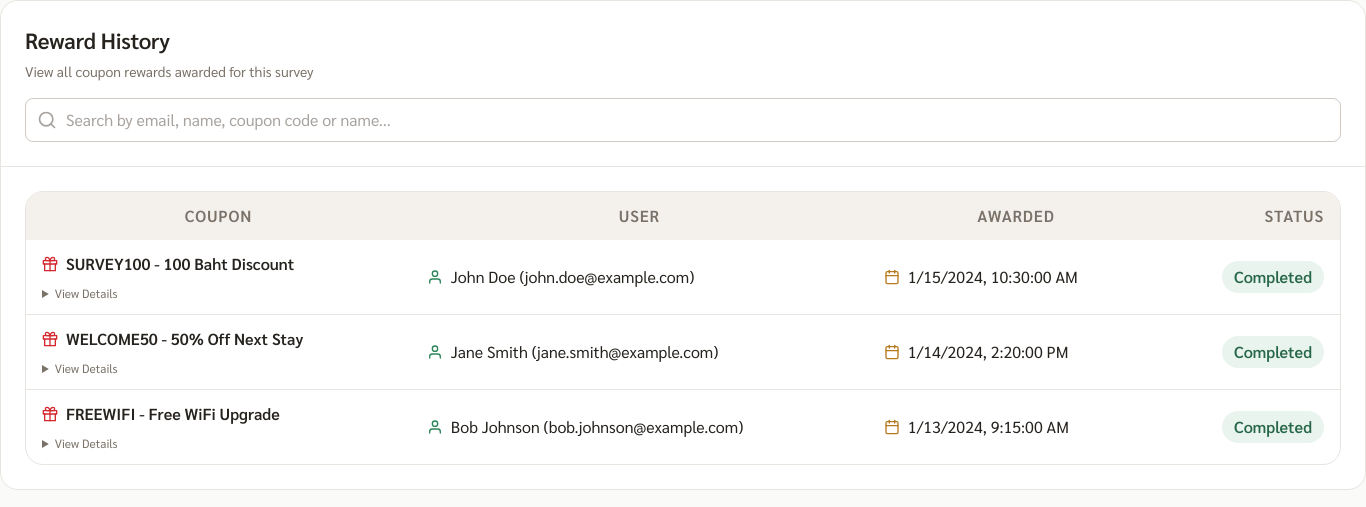
Scenario: SurveyRewardHistory › Search Functionality - Email › should filter rewards by email
Expected: the text "John Doe (john.doe@example.com)" is shown, [451,265,694,289]
Expected: the text "Jane Smith (jane.smith@example.com)" is shown, [451,340,718,364]
Type "jane.smith@example.com" into the field with placeholder "Search by email, name, coupon code or name..." at (683, 120), box [25,98,1341,142]
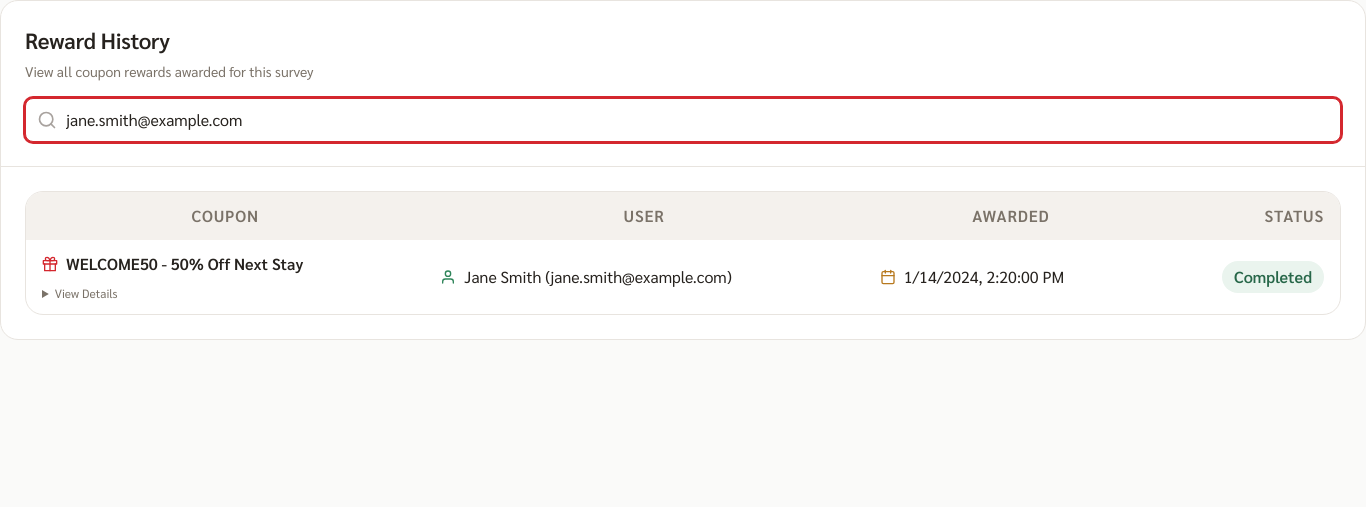
Expected: the text "Jane Smith (jane.smith@example.com)" is shown, [464,265,732,289]
Expected: the text "John Doe" is gone
Expected: the text "Bob Johnson" is gone
